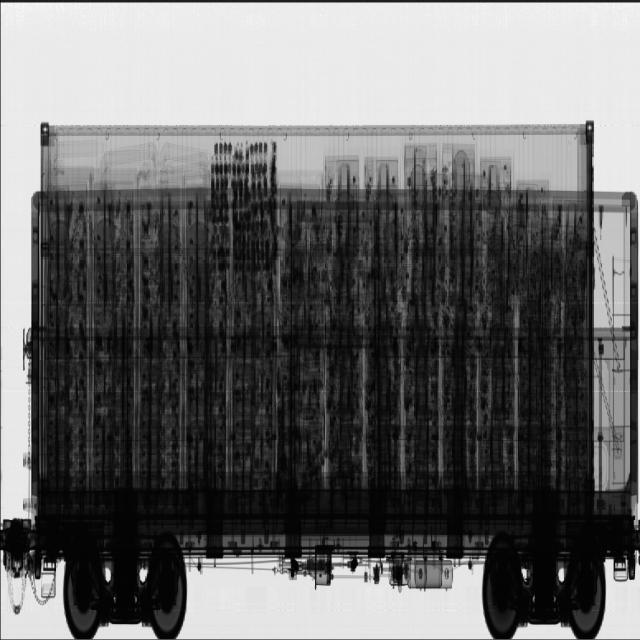fabrics: (93, 129, 567, 454)
